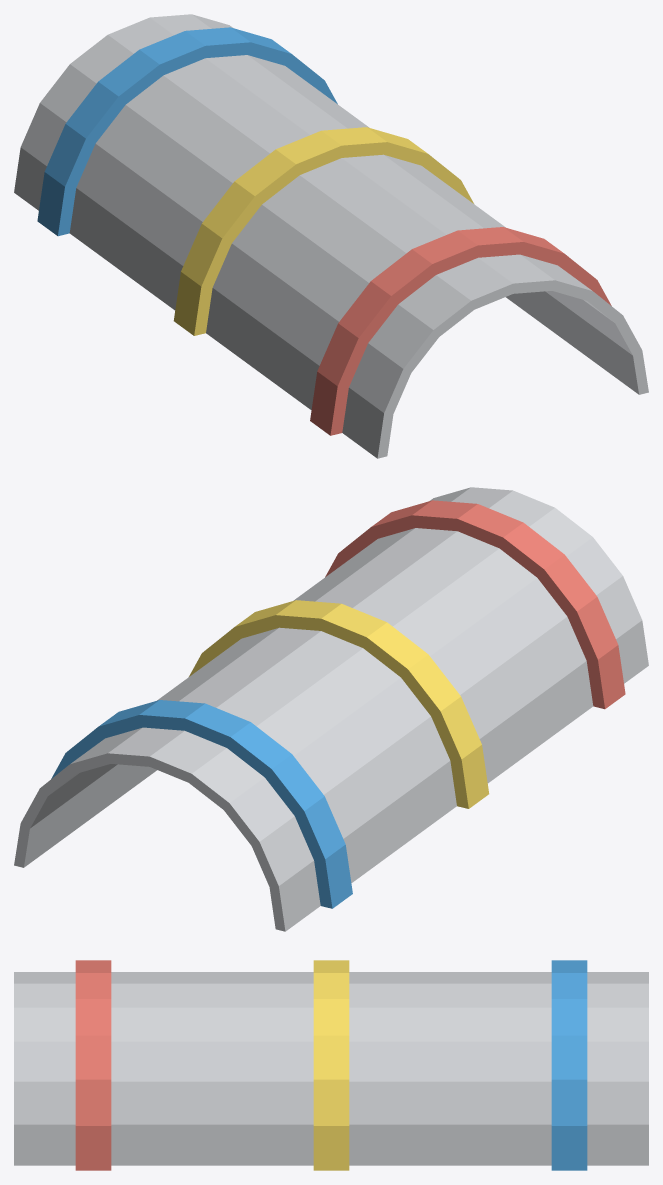
The model's file is dog-agility-and-training-field-rigid-tunnel-straight-b6a7f18f__35584.glb.
3 views of the same model, one above another, from view 1: azimuth 30°, elevation 25°; view 2: azimuth 150°, elevation 25°; view 3: azimuth 270°, elevation 25° (orthographic). The views are drawn at different scales.
Parts seen in each view (by area): view 1: rigid-tunnel-straight-steel, rigid-tunnel-straight-poppy, rigid-tunnel-straight-azure, rigid-tunnel-straight-sunflower; view 2: rigid-tunnel-straight-steel, rigid-tunnel-straight-azure, rigid-tunnel-straight-poppy, rigid-tunnel-straight-sunflower; view 3: rigid-tunnel-straight-steel, rigid-tunnel-straight-azure, rigid-tunnel-straight-sunflower, rigid-tunnel-straight-poppy.
Boxes of the visible parts, x1,y1,x2,y2 form: rigid-tunnel-straight-steel: (14,14,648,458); rigid-tunnel-straight-poppy: (310,227,611,435); rigid-tunnel-straight-azure: (37,27,337,236); rigid-tunnel-straight-sunflower: (173,127,473,335); rigid-tunnel-straight-steel: (14,487,648,931); rigid-tunnel-straight-azure: (51,700,352,908); rigid-tunnel-straight-poppy: (325,500,625,709); rigid-tunnel-straight-sunflower: (189,600,489,808); rigid-tunnel-straight-steel: (14,972,648,1165); rigid-tunnel-straight-azure: (551,960,587,1170); rigid-tunnel-straight-sunflower: (313,960,349,1170); rigid-tunnel-straight-poppy: (75,960,111,1170).
Bounding box in the file's own units: 0.75 × 0.3751 × 1.6.
